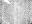person: (4, 0, 10, 5)
